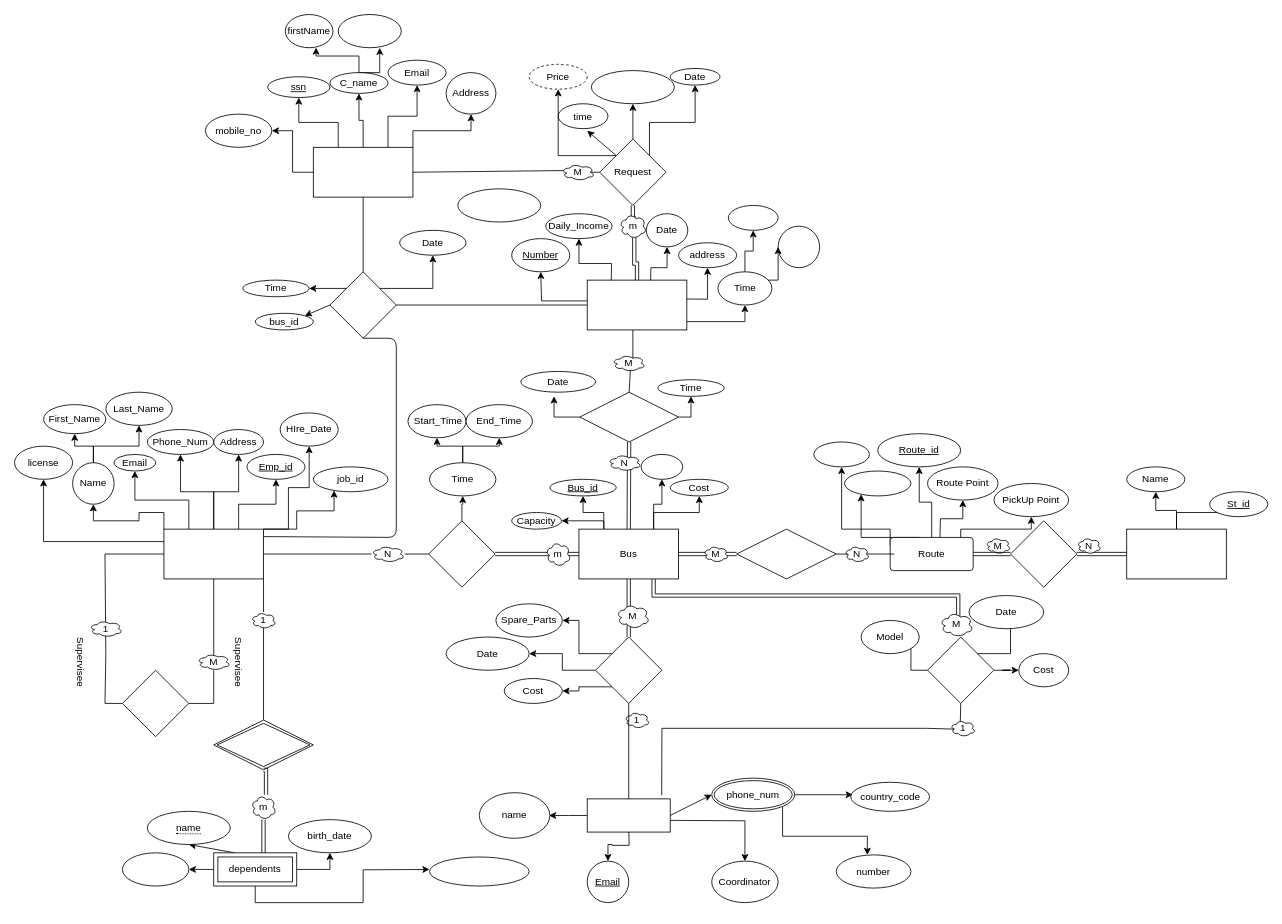
Image size: 1282x924. Some labels were removed from this diagram. The centre of each missing label's shape, as x and y in pixels:
"Attribute" goes at [499,205].
"Booking Office" goes at [636,304].
"Buy" goes at [960,669].
"company" goes at [628,815].
"Complaint" goes at [362,304].
"Customer" goes at [362,171].
"dependent" goes at [263,744].
"Drive" goes at [461,553].
"Duration" goes at [841,454].
"Employee" goes at [213,553].
"lastName" goes at [369,31].
"maintenance" goes at [628,669].
"manage" goes at [155,703].
"Registration" goes at [629,416].
"relationship" goes at [155,869].
"rout_id" goes at [632,87].
"Route_Ticket" goes at [877,483].
"Sex" goes at [479,871].
"Station" goes at [1176,553].
"Station on route" goes at [1043,553].
"T_Close" goes at [752,217].
"T_Open" goes at [798,246].
"travel through" goes at [786,553].
"Type" goes at [661,466].
